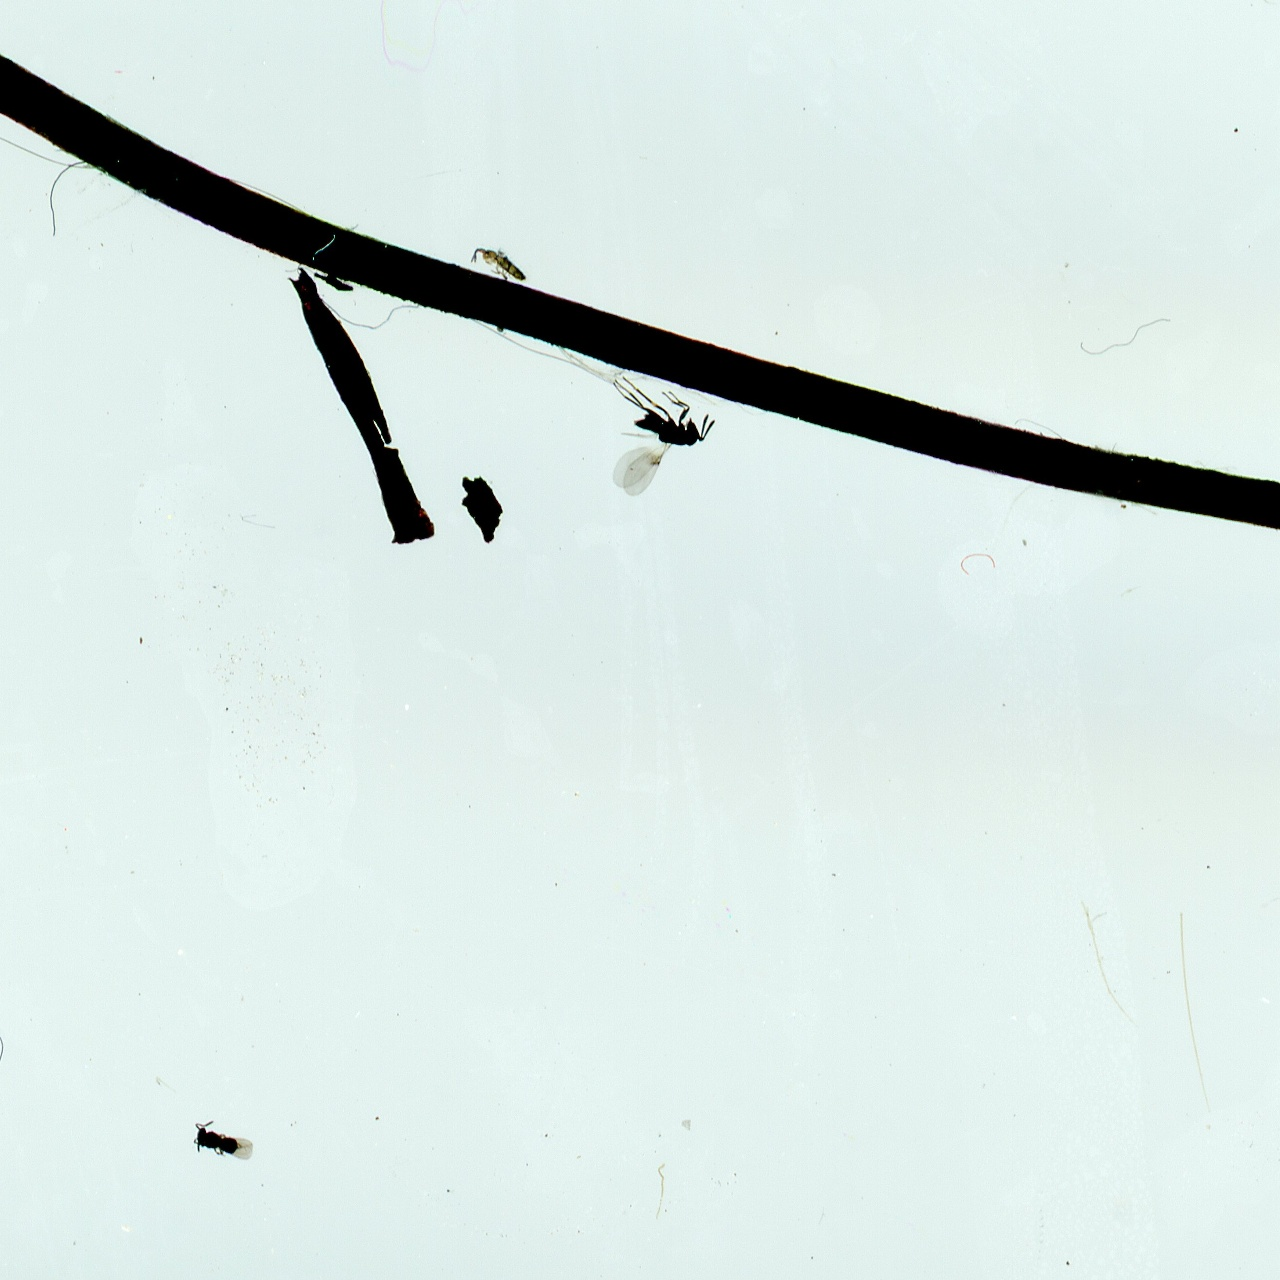arthropod: (606, 369, 719, 501), (190, 1112, 256, 1159), (467, 243, 527, 280)
